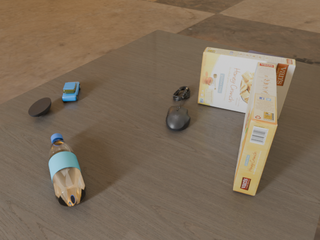bottle: (48, 134, 87, 207)
box: (198, 47, 295, 119), (233, 62, 277, 195)
mouse: (166, 106, 190, 131), (28, 98, 51, 117)
toy_car: (62, 82, 80, 102)
